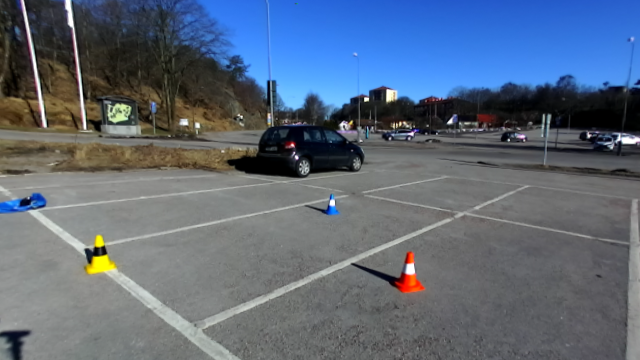blue: (323, 194, 340, 215)
orange: (390, 251, 425, 293)
yellow: (84, 235, 117, 275)
